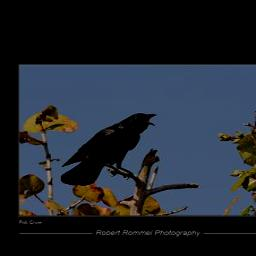Crow: (60, 112, 156, 185)
